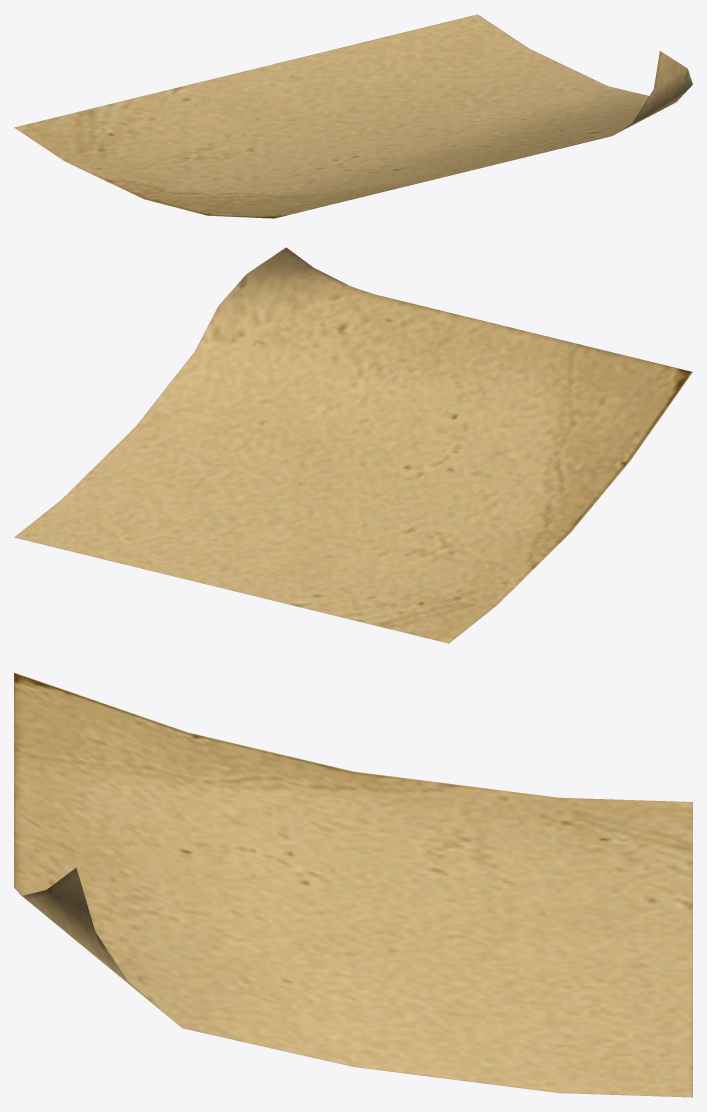
The model's file is papers_printed_postit02.dae.
3 renders of one model, top to bottom at view 1: azimuth 30°, elevation 25°; view 2: azimuth 150°, elevation 25°; view 3: azimuth 270°, elevation 25°, orthographic. The views are drawn at different scales.
Visible parts, largest first — view 1: postit02; view 2: postit02; view 3: postit02.
Part boxes in pixels (bbox=[...]): postit02: bbox=[14, 14, 692, 218]; postit02: bbox=[14, 247, 692, 643]; postit02: bbox=[14, 672, 692, 1097].
Size of the model in its own units: 0.1258 by 0.0386 by 0.1214.
